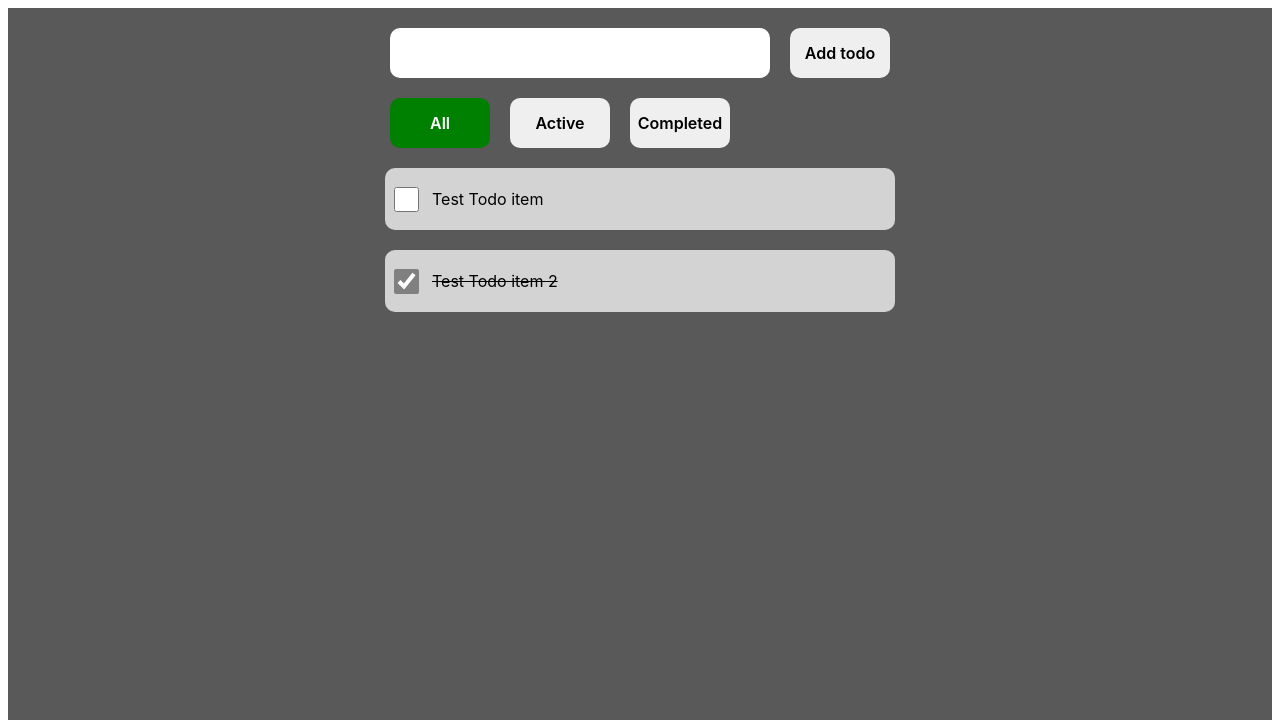
Test App › Test ToDoItem › ToDoItem works correctly on click, filtering works correctly
Click the list item "Test Todo item" at (640, 199), box [385,168,895,230]
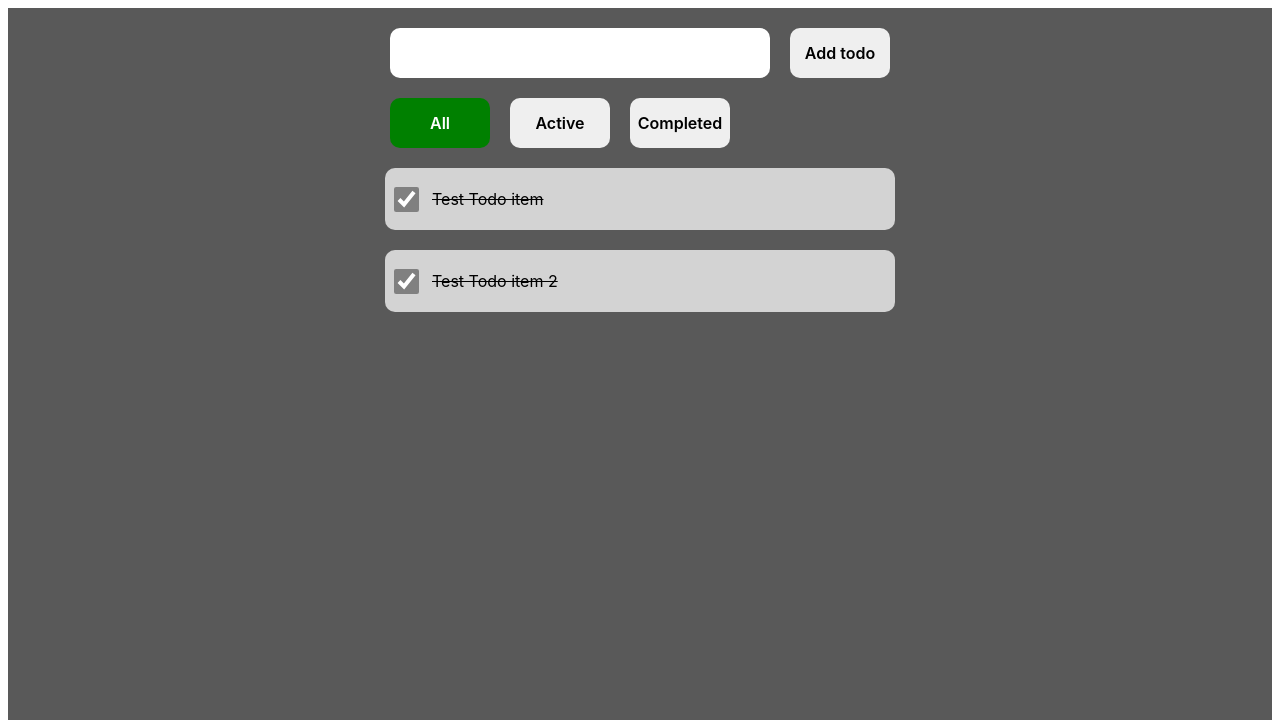
Click the button "Active" at (560, 123), box [510,98,610,148]
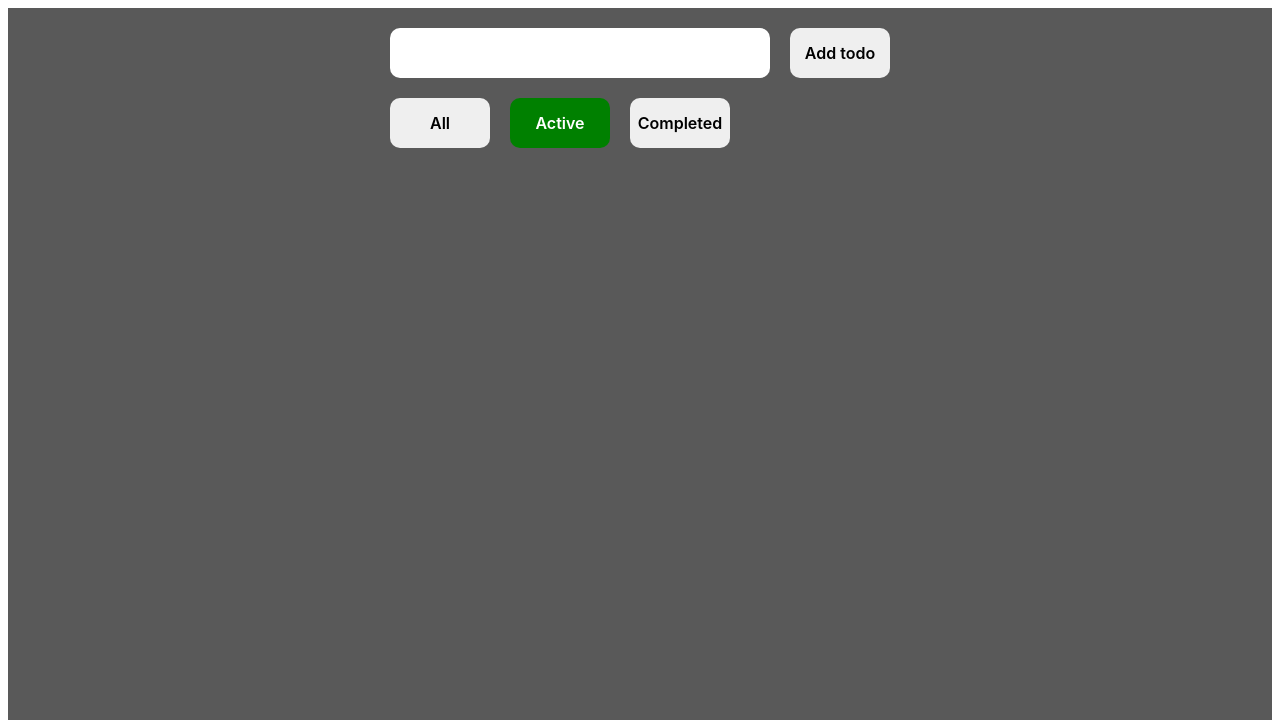
Click the button "Completed" at (680, 123), box [630,98,730,148]
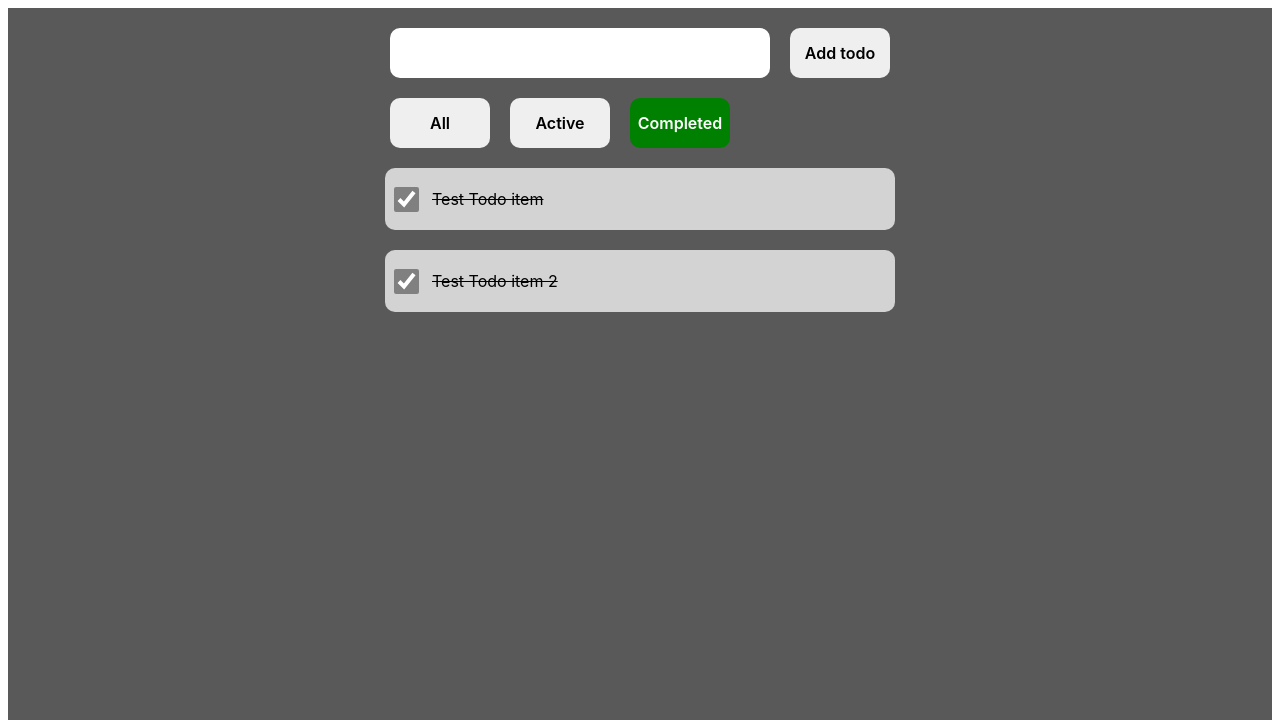
Expected: the number of list items is 2, [385,168,895,230]; [385,250,895,312]
